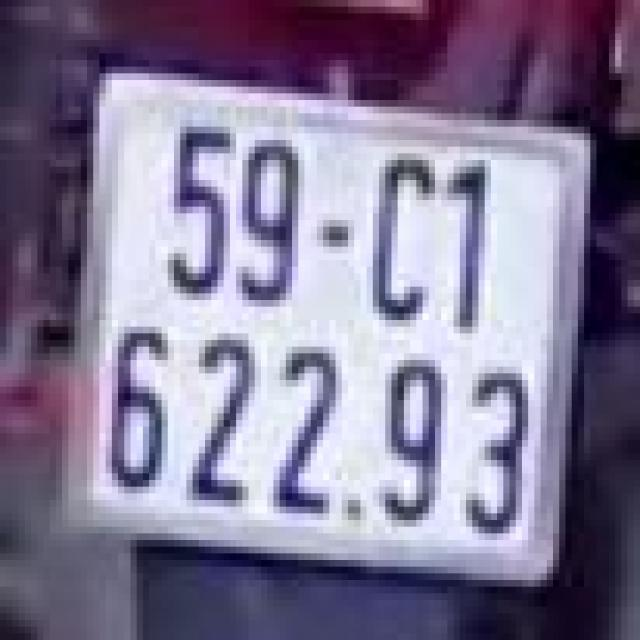1: (438, 154, 494, 354)
2: (267, 323, 342, 530), (180, 313, 255, 507)
3: (463, 357, 537, 543)
5: (164, 117, 227, 290)
6: (99, 317, 168, 503)
9: (370, 333, 450, 540), (230, 133, 304, 307)
C: (360, 133, 448, 327)
